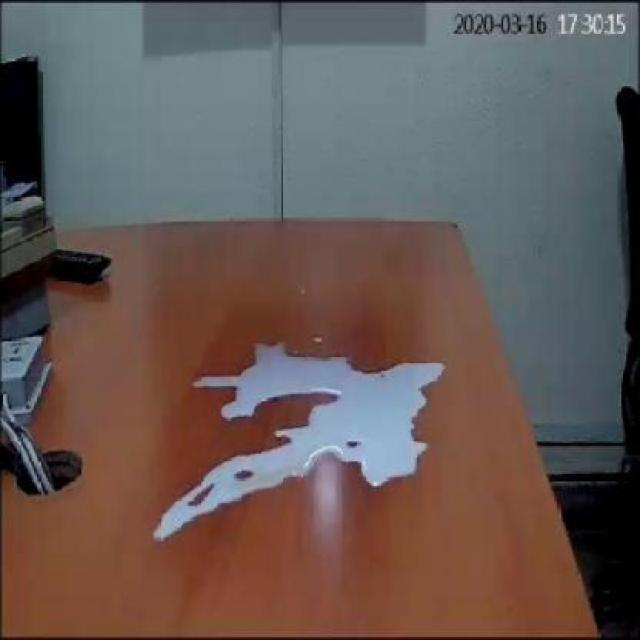spillage: (153, 342, 446, 542)
